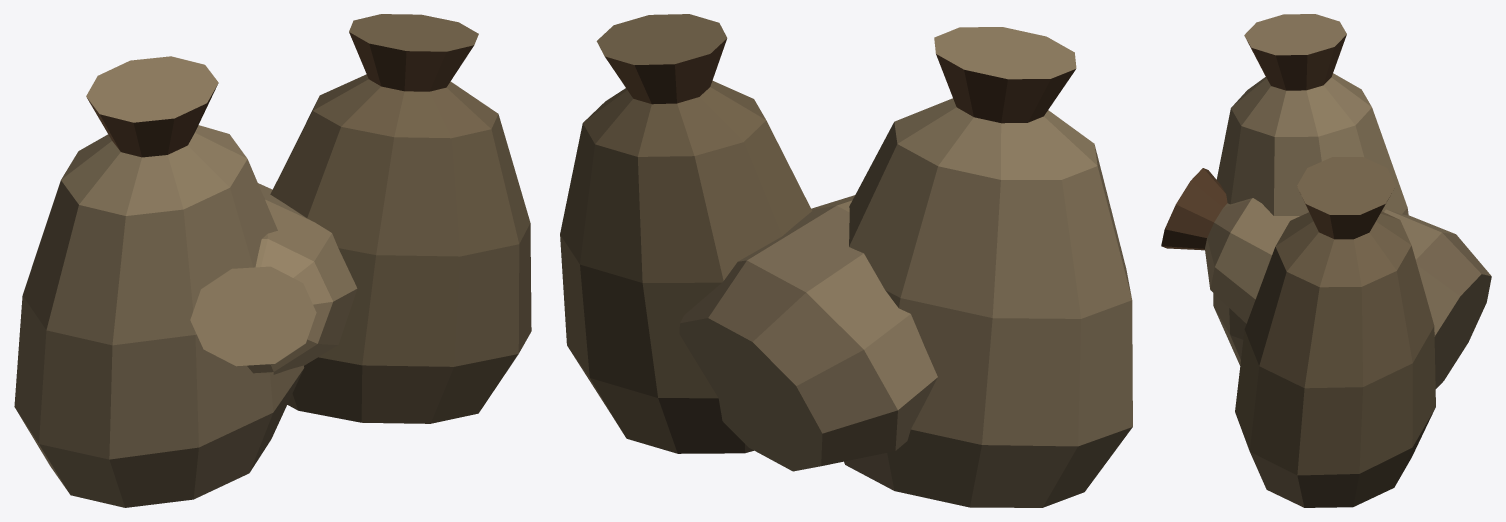
The model's file is prop_sacks.glb.
3 views of the same model, side by side, from view 1: azimuth 30°, elevation 25°; view 2: azimuth 150°, elevation 25°; view 3: azimuth 270°, elevation 25° (orthographic). The views are drawn at different scales.
Visible parts, largest first — view 1: prop_sacks; view 2: prop_sacks; view 3: prop_sacks.
Part boxes in pixels (box(x1,y1,x2,y2)): prop_sacks: box(14, 14, 531, 507); prop_sacks: box(560, 14, 1132, 507); prop_sacks: box(1161, 14, 1491, 507).
Bounding box in the file's own units: 0.9024 × 0.6912 × 0.6109.
